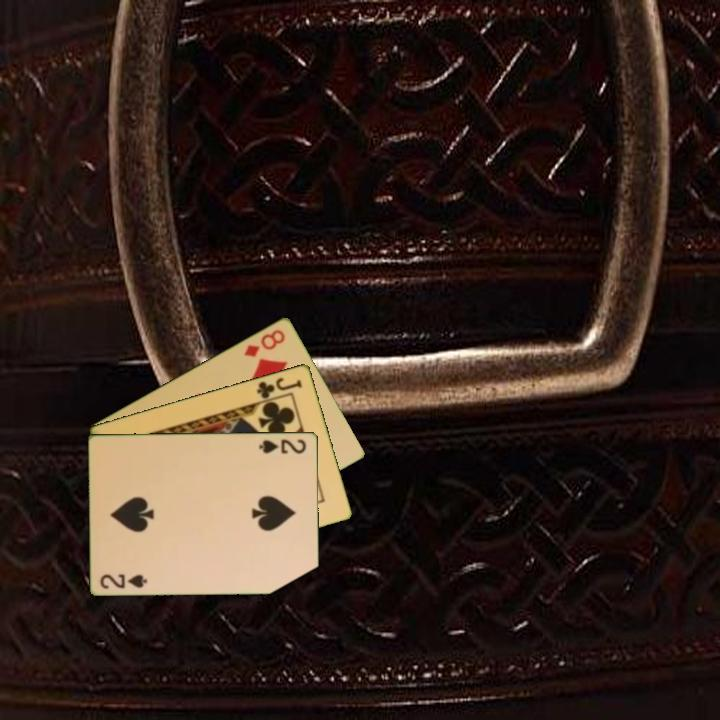2s: (256, 435, 309, 456), (97, 570, 150, 591)
8d: (241, 325, 288, 360)
Jc: (253, 373, 305, 401)
